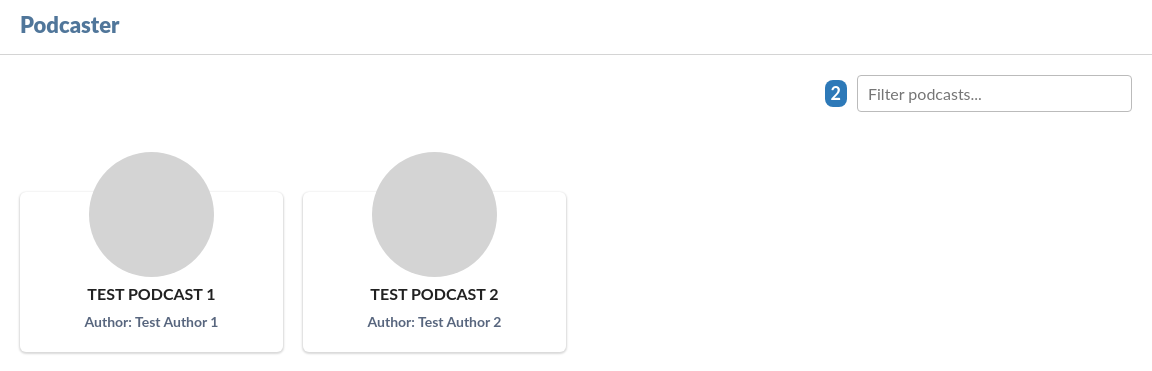
it: Home › Filters podcasts by search input
In the search field with placeholder "Filter podcasts...": (994,94) [857,75,1132,112], type "podcast 1"
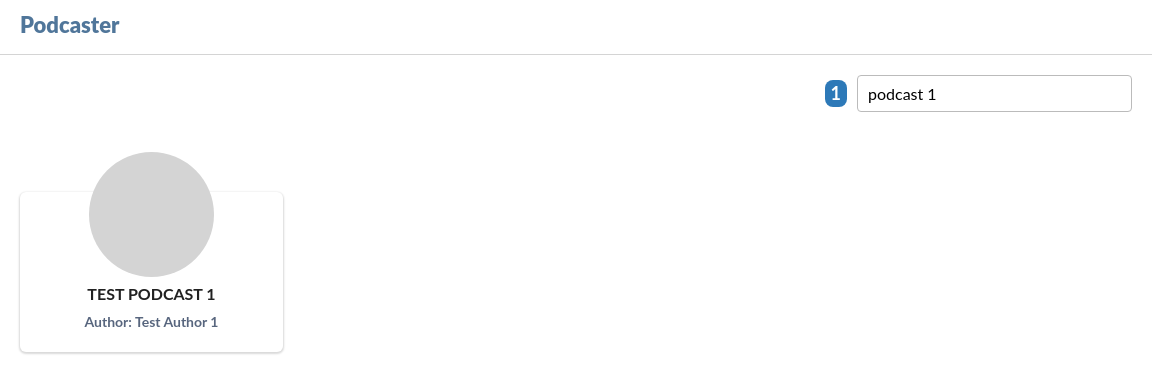
Check: the text "Test Podcast 1" is shown, box [87,282,216,306]
Check: the link "Test Podcast 2" is gone
